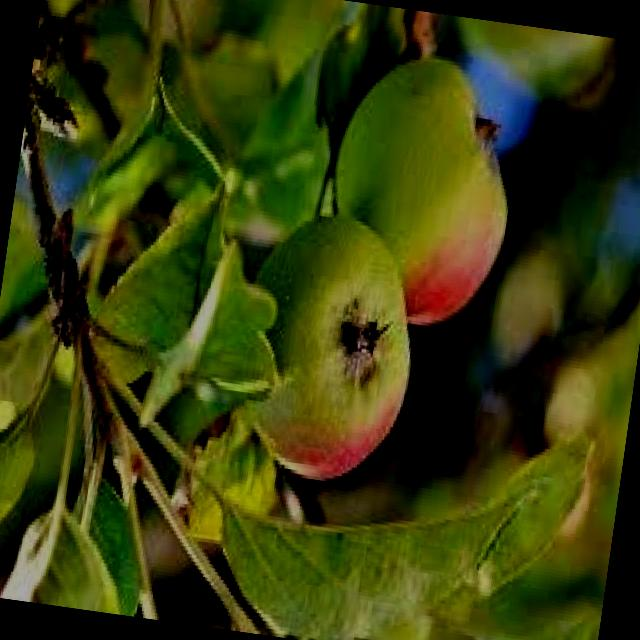Apple: (315, 47, 530, 339), (227, 204, 433, 495), (449, 20, 623, 119)
